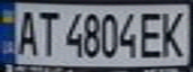0: (100, 10, 121, 60)
4: (118, 9, 142, 60), (60, 8, 84, 59)
8: (81, 9, 103, 58)
A: (12, 7, 39, 56)
E: (136, 8, 166, 60)
K: (157, 7, 190, 58)
T: (33, 7, 60, 57)
